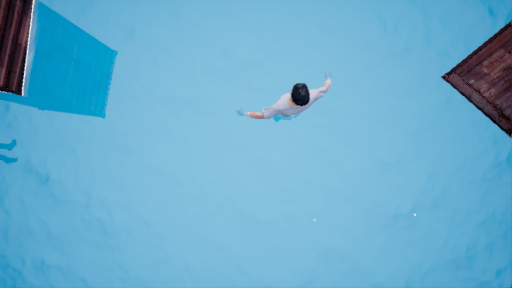person: (240, 70, 329, 135)
